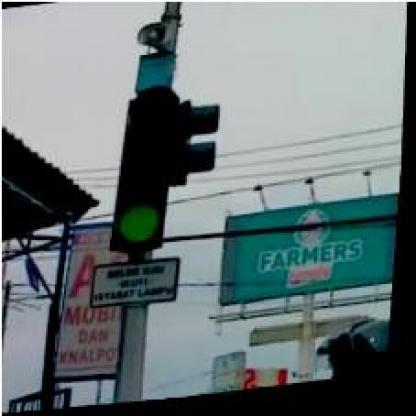green: (108, 89, 185, 256)
